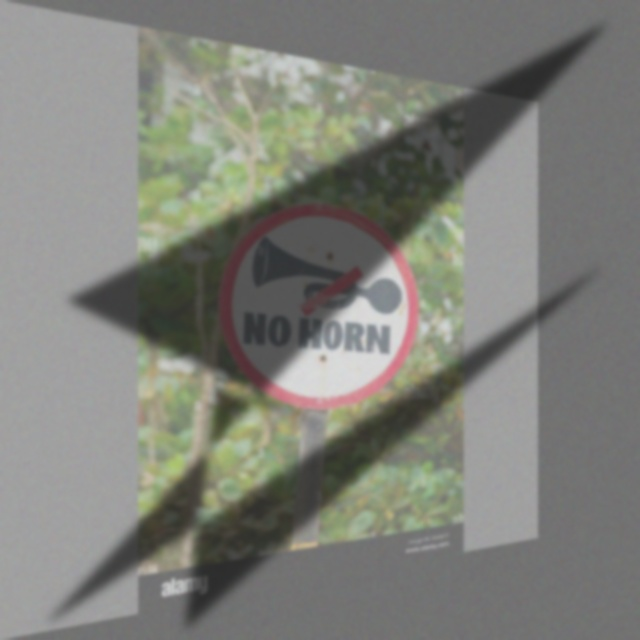Horn_Prohibited: (224, 192, 416, 418)
